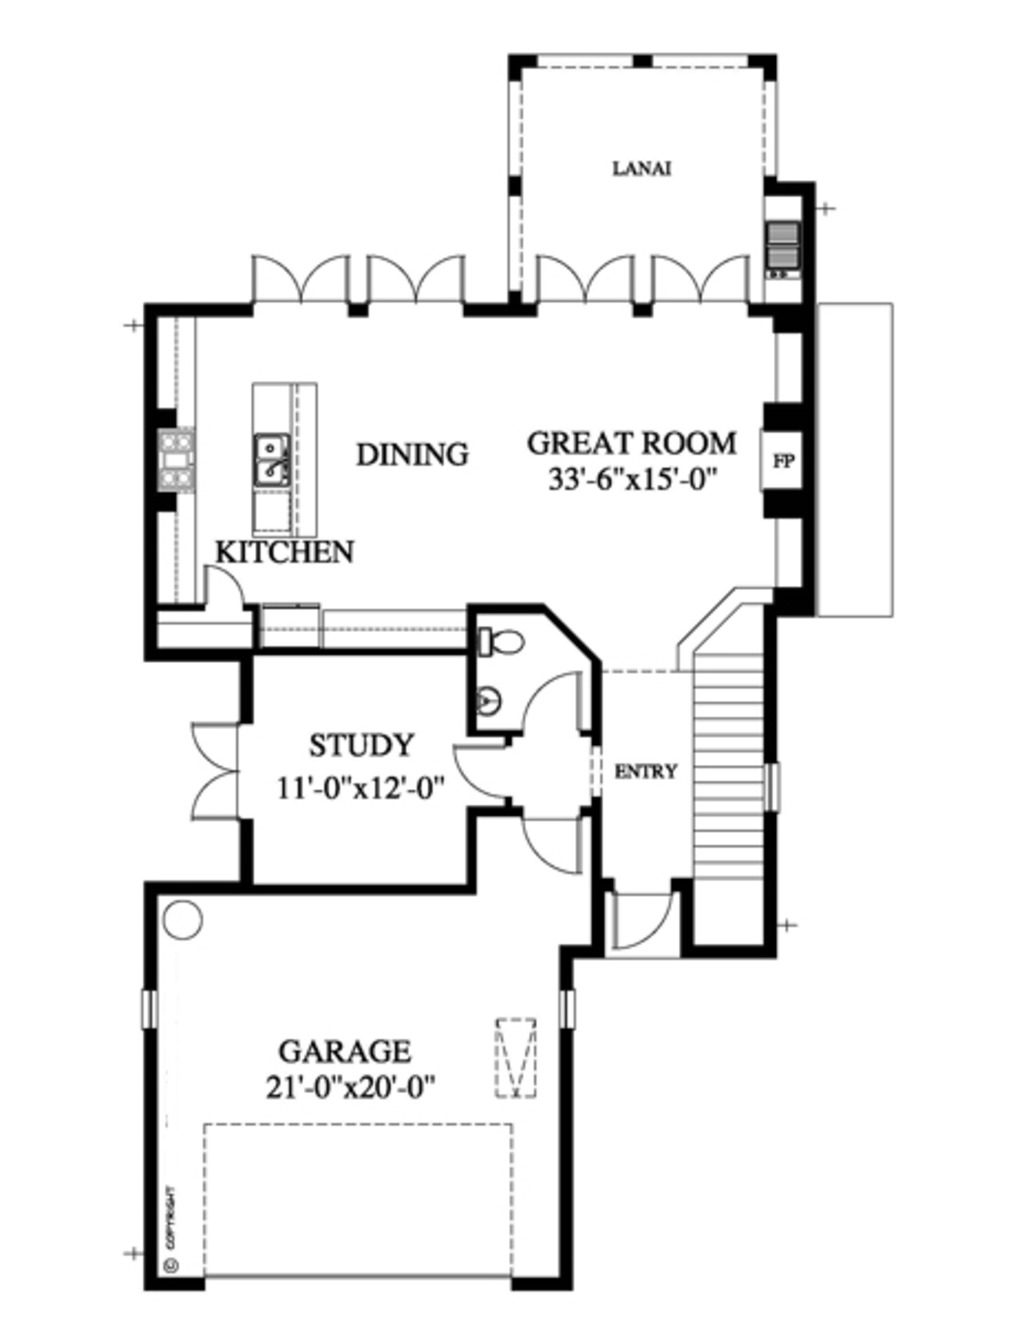door: (244, 249, 355, 319), (648, 249, 759, 317), (530, 253, 645, 312), (365, 250, 468, 315), (189, 715, 246, 831), (610, 879, 677, 953), (520, 667, 589, 735), (521, 814, 594, 877), (453, 739, 511, 797)
kitchen_bar: (242, 377, 324, 542)
stairs: (684, 611, 777, 948)
windows: (138, 987, 163, 1033)
